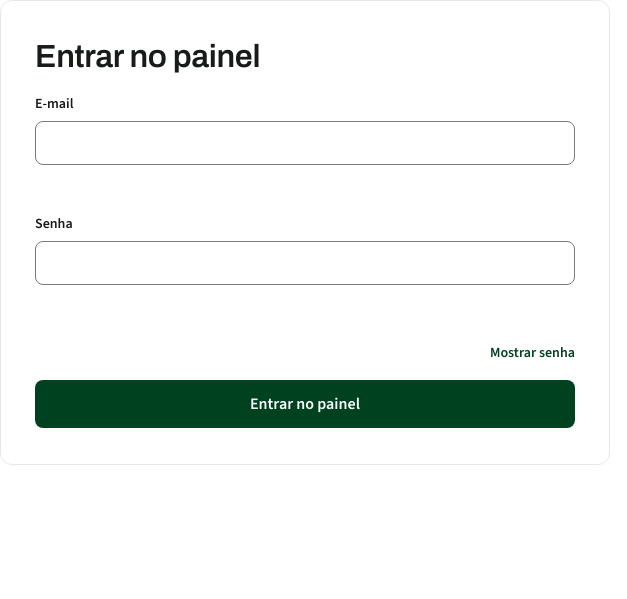
LoginForm administrativo › exibe mensagem generica para credenciais invalidas
Type "operador@example.invalid" into the field labelled "E-mail" at point(305, 143), box [35,121,575,165]
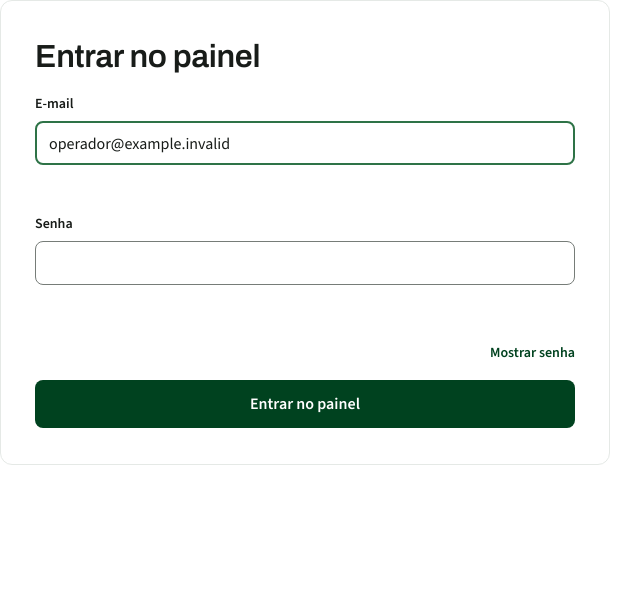
Type "SenhaFicticia123!" into the password field labelled "Senha" at point(305, 263), box [35,241,575,285]
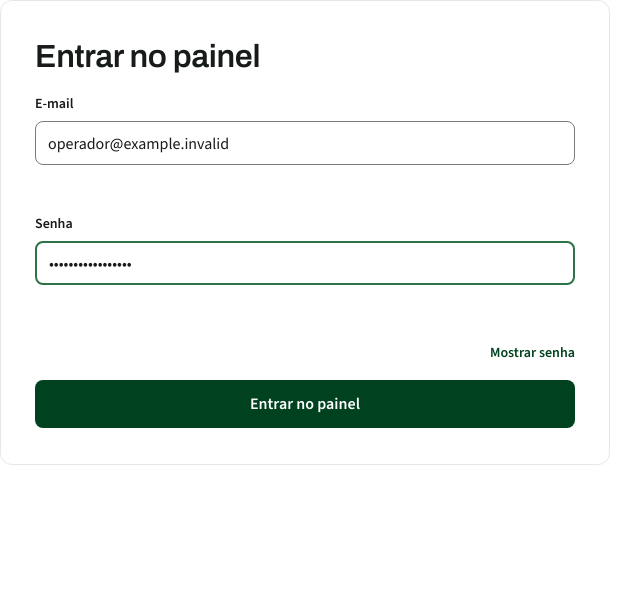
Click the button "Entrar no painel" at point(305, 404), box [35,380,575,428]
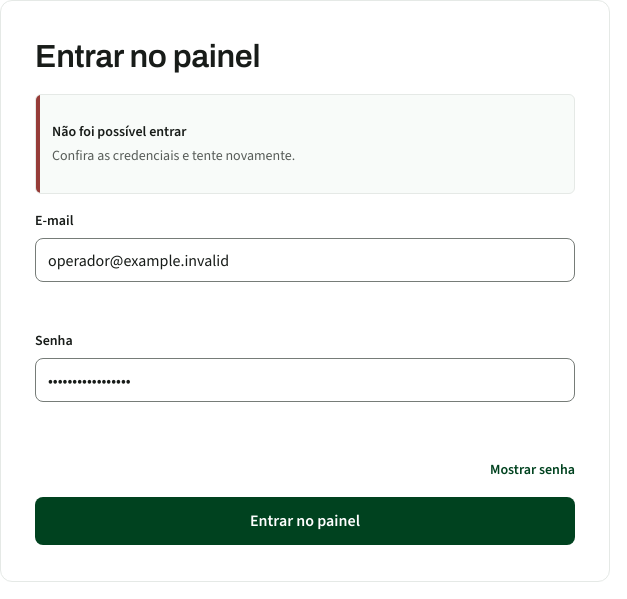
Expected: the text "Não foi possível entrar" is shown, [52,122,186,141]
